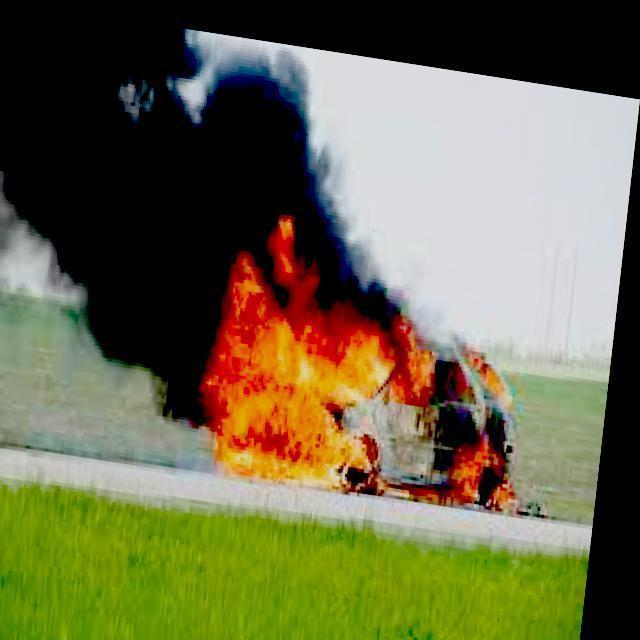Fire: (200, 197, 548, 503)
